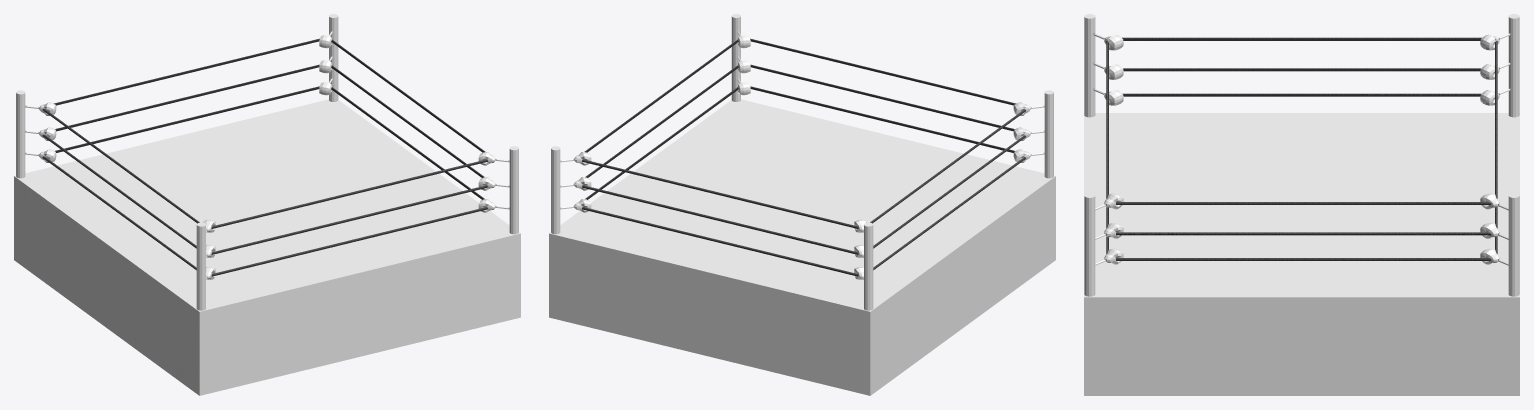
File: ring-standard-1.glb
3 views of the same model, side by side, from view 1: azimuth 30°, elevation 25°; view 2: azimuth 150°, elevation 25°; view 3: azimuth 270°, elevation 25° (orthographic). The views are drawn at different scales.
Parts seen in each view (by area): view 1: canvas, apron-south, apron-west, rope-south-top, rope-south-middle, rope-south-bottom, rope-north-top, ring-post-sw, ring-post-nw, ring-post-se, rope-north-middle, rope-north-bottom (+7 smaller); view 2: canvas, apron-north, apron-west, rope-north-top, rope-north-middle, rope-north-bottom, rope-south-top, ring-post-nw, ring-post-sw, ring-post-ne, rope-south-middle, rope-south-bottom (+7 smaller); view 3: canvas, apron-east, rope-east-middle, rope-west-top, rope-west-bottom, rope-west-middle, ring-post-ne, ring-post-se, ring-post-nw, ring-post-sw, rope-east-bottom, rope-east-top (+2 smaller).
Boxes of the visible parts, x1=… form: canvas: x1=14, y1=99, x2=520, y2=311; apron-south: x1=199, y1=233, x2=520, y2=395; apron-west: x1=14, y1=176, x2=199, y2=395; rope-south-top: x1=211, y1=159, x2=487, y2=228; rope-south-middle: x1=211, y1=185, x2=487, y2=254; rope-south-bottom: x1=211, y1=207, x2=487, y2=276; rope-north-top: x1=54, y1=38, x2=319, y2=105; ring-post-sw: x1=196, y1=222, x2=205, y2=310; ring-post-nw: x1=16, y1=90, x2=25, y2=178; ring-post-se: x1=509, y1=146, x2=518, y2=234; rope-north-middle: x1=55, y1=64, x2=319, y2=131; rope-north-bottom: x1=55, y1=86, x2=319, y2=152; canvas: x1=549, y1=99, x2=1055, y2=311; apron-north: x1=549, y1=233, x2=870, y2=395; apron-west: x1=870, y1=176, x2=1055, y2=395; rope-north-top: x1=582, y1=159, x2=858, y2=228; rope-north-middle: x1=582, y1=185, x2=858, y2=254; rope-north-bottom: x1=582, y1=207, x2=858, y2=276; rope-south-top: x1=750, y1=38, x2=1015, y2=105; ring-post-nw: x1=864, y1=222, x2=873, y2=310; ring-post-sw: x1=1044, y1=90, x2=1053, y2=178; ring-post-ne: x1=551, y1=146, x2=560, y2=234; rope-south-middle: x1=750, y1=64, x2=1014, y2=131; rope-south-bottom: x1=750, y1=86, x2=1014, y2=152; canvas: x1=1084, y1=113, x2=1519, y2=297; apron-east: x1=1084, y1=297, x2=1519, y2=395; rope-east-middle: x1=1116, y1=232, x2=1491, y2=235; rope-west-top: x1=1122, y1=37, x2=1481, y2=40; rope-west-bottom: x1=1122, y1=93, x2=1481, y2=96; rope-west-middle: x1=1123, y1=68, x2=1480, y2=71; ring-post-ne: x1=1508, y1=193, x2=1519, y2=296; ring-post-se: x1=1084, y1=193, x2=1095, y2=296; ring-post-nw: x1=1508, y1=14, x2=1519, y2=117; ring-post-sw: x1=1084, y1=14, x2=1095, y2=117; rope-east-bottom: x1=1116, y1=258, x2=1491, y2=260; rope-east-top: x1=1116, y1=202, x2=1491, y2=204.
Bounding box in the file's own units: 107 × 53.74 × 107.
Materials: 10 (3 with a texture image).
